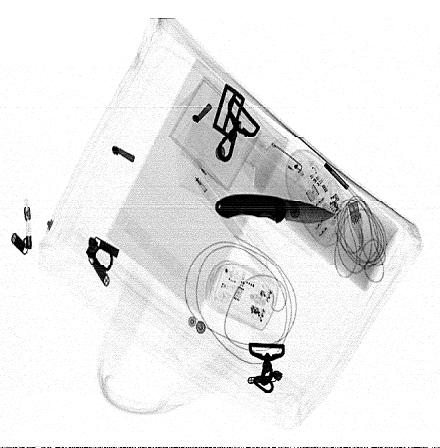Knife: (214, 194, 338, 225)
